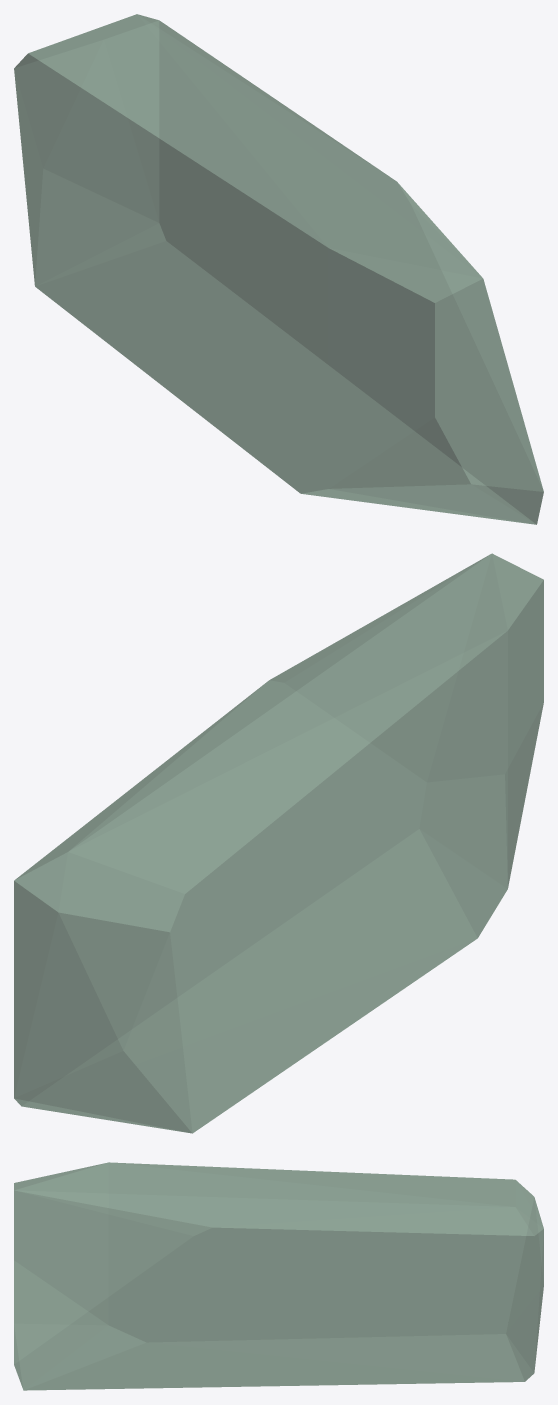
The picture shows the model from 3 angles, top to bottom: view 1: azimuth 30°, elevation 25°; view 2: azimuth 150°, elevation 25°; view 3: azimuth 270°, elevation 25°; orthographic projection. The views are drawn at different scales.
Parts seen in each view (by area): view 1: Shape_IndexedFaceSet.017_Shape_IndexedFaceSet.10122; view 2: Shape_IndexedFaceSet.017_Shape_IndexedFaceSet.10122; view 3: Shape_IndexedFaceSet.017_Shape_IndexedFaceSet.10122.
Part boxes in pixels (x1,y1,x2,y2): Shape_IndexedFaceSet.017_Shape_IndexedFaceSet.10122: (14, 14, 543, 524); Shape_IndexedFaceSet.017_Shape_IndexedFaceSet.10122: (14, 553, 543, 1133); Shape_IndexedFaceSet.017_Shape_IndexedFaceSet.10122: (14, 1162, 543, 1390).
Bounding box in the file's own units: 0.00438 × 0.00767 × 0.0205.
